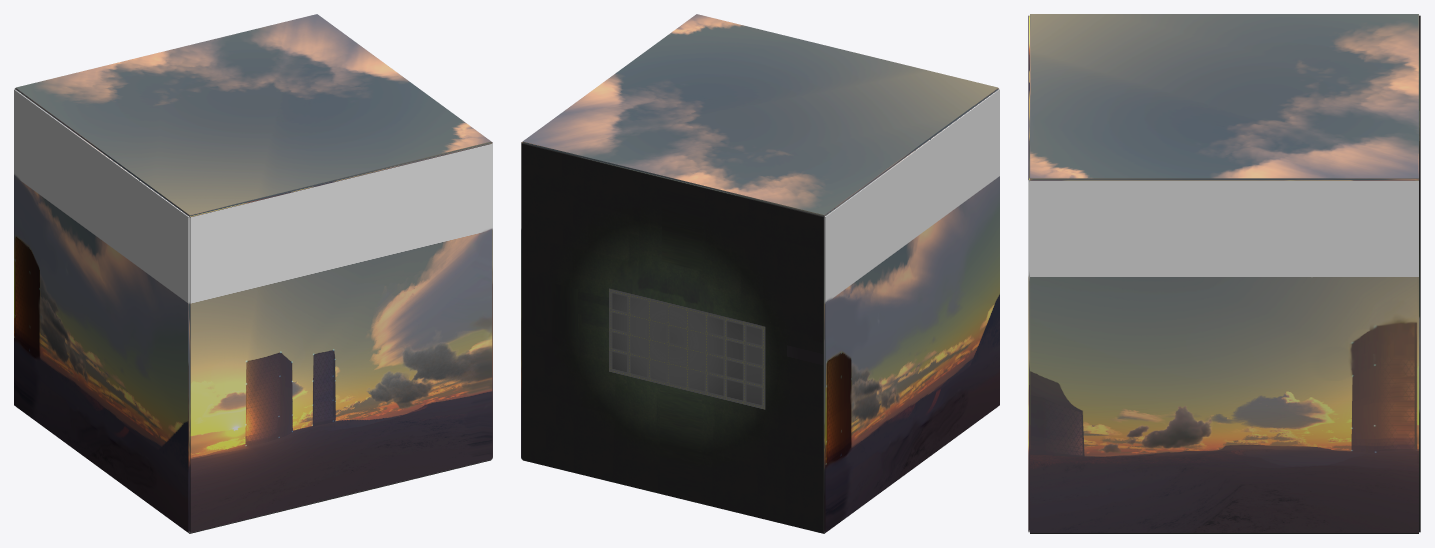
File: skybox.FBX
3 views of the same model, side by side, from view 1: azimuth 30°, elevation 25°; view 2: azimuth 150°, elevation 25°; view 3: azimuth 270°, elevation 25° (orthographic). The views are drawn at different scales.
Visible parts, largest first — view 1: Box01, Box04, Box06; view 2: Box02, Box04, Box06; view 3: Box03, Box06, Box01, Box02.
Boxes of the visible parts, x1,y1,x2,y2 form: Box01: (189, 143, 492, 532); Box04: (14, 89, 189, 532); Box06: (15, 14, 491, 216); Box02: (521, 143, 824, 532); Box04: (824, 89, 999, 532); Box06: (522, 14, 998, 216); Box03: (1030, 180, 1418, 532); Box06: (1030, 14, 1418, 179); Box01: (1028, 15, 1029, 532); Box02: (1419, 15, 1420, 532).
Bounding box in the file's own units: 103 × 103 × 103.
Materials: 5 (5 with a texture image).
